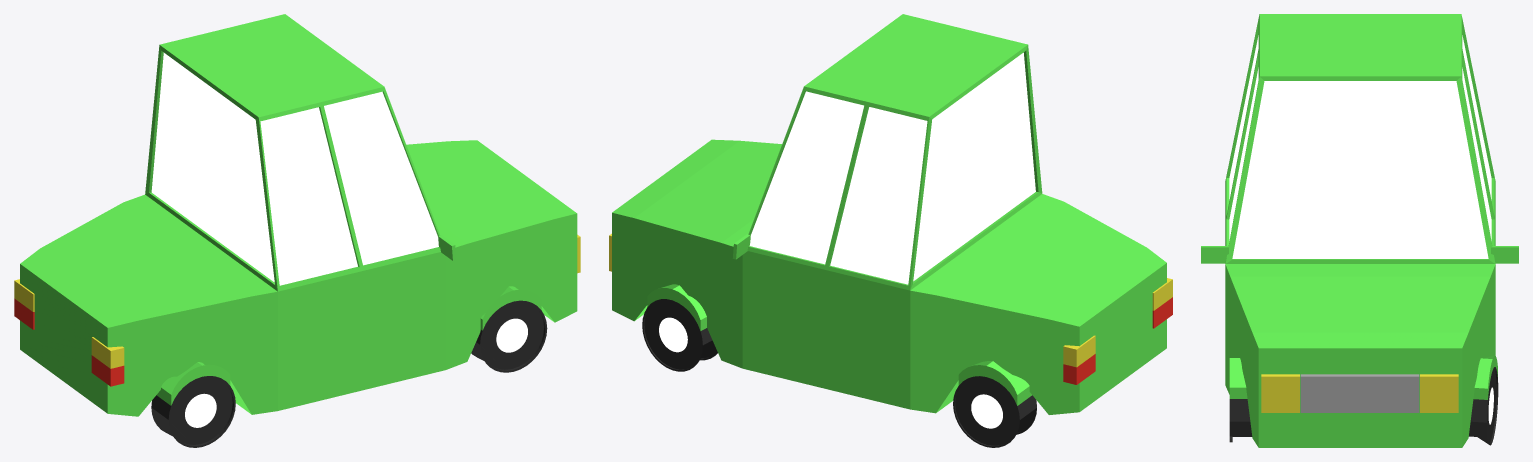
The model's file is lowPolyCar1.gltf.
3 renders of one model, left to right at view 1: azimuth 30°, elevation 25°; view 2: azimuth 150°, elevation 25°; view 3: azimuth 270°, elevation 25°, orthographic. The views are drawn at different scales.
Parts seen in each view (by area): view 1: Cube, Cylinder.003, Cylinder.000, Cube.007, Cube.006; view 2: Cube, Cylinder.001, Cylinder.002, Cube.006, Cube.007; view 3: Cube, Cube.003, Cylinder.002, Cube.004, Cube.005, Cylinder.000, Cube.002, Cube.001.
Part boxes in pixels (x1,y1,x2,y2): Cube: (20,14,577,416); Cylinder.003: (151,362,235,447); Cylinder.000: (471,286,547,372); Cube.007: (91,337,124,386); Cube.006: (14,279,34,329); Cube: (612,14,1166,414); Cylinder.001: (953,361,1036,447); Cylinder.002: (642,284,717,371); Cube.006: (1063,335,1095,384); Cube.007: (1152,278,1172,328); Cube: (1225,14,1495,447); Cube.003: (1300,374,1419,412); Cylinder.002: (1468,355,1498,445); Cube.004: (1261,374,1299,412); Cube.005: (1420,374,1458,412); Cylinder.000: (1229,358,1252,442); Cube.002: (1201,246,1228,263); Cube.001: (1491,246,1518,263).
Bounding box in the file's own units: 4.45 × 2.74 × 2.56.
